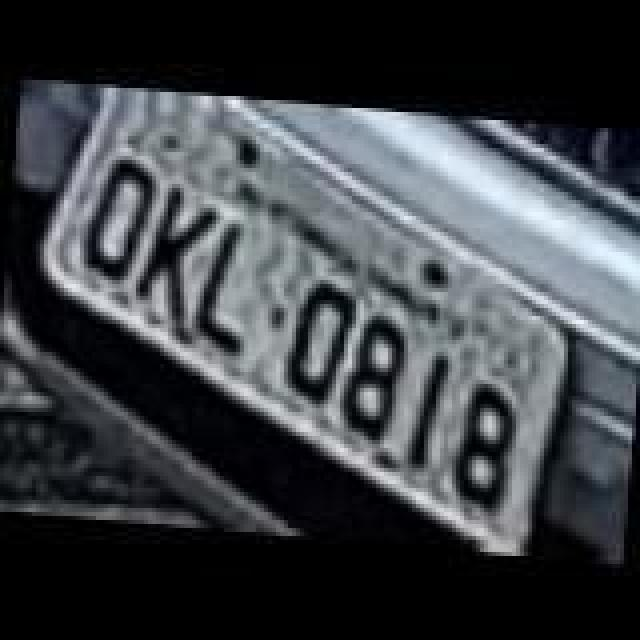1: (402, 346, 462, 470)
8: (442, 370, 518, 510), (334, 306, 410, 438)
K: (126, 182, 218, 330)
L: (182, 214, 266, 354)
O: (70, 152, 162, 280), (276, 274, 356, 406)
